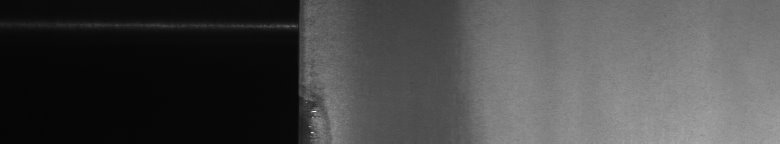hb: (308, 17, 337, 136)
